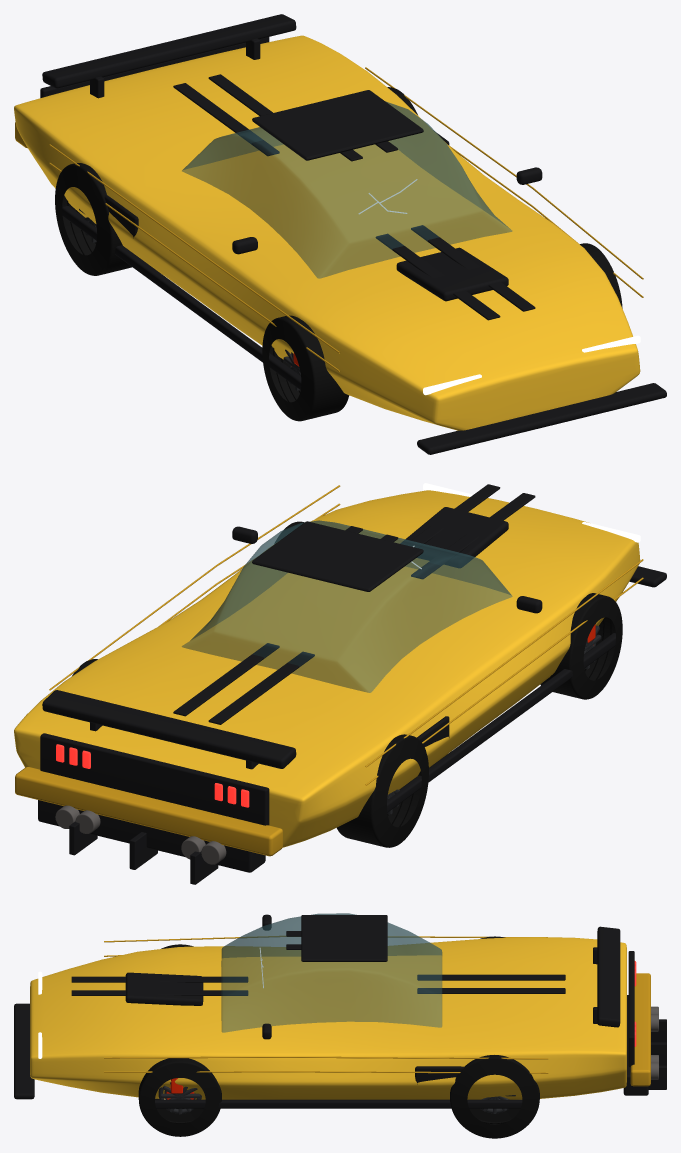
Rendered from gt650_mid_engine.glb.
3 renders of one model, top to bottom at view 1: azimuth 30°, elevation 25°; view 2: azimuth 150°, elevation 25°; view 3: azimuth 270°, elevation 25°, orthographic. The views are drawn at different scales.
Visible parts, largest first — view 1: Crashhawk_BodyShell, Cabin_Glasshouse, Black_Roof_Panel, Wheel_FL_Tire_Sidewall, Damage_Active_Rear_Wing, Wheel_RL_Tire_Sidewall, Damage_Front_Splitter, Left_Side_Skirt, Hood_Ram_Scoop, Rear_Deck_Stripe_-0.14, Hood_Stripe_+0.14, Hood_Stripe_-0.14 (+4 smaller); view 2: Crashhawk_BodyShell, Cabin_Glasshouse, Rear_Black_Tail_Panel, Rear_Bumper_Yellow_Lip, Black_Roof_Panel, Damage_Active_Rear_Wing, Wheel_RL_Tire_Sidewall, Wheel_FL_Tire_Sidewall, Left_Side_Skirt, Damage_Rear_Diffuser_Block, Hood_Ram_Scoop, Rear_Deck_Stripe_+0.14 (+6 smaller); view 3: Crashhawk_BodyShell, Cabin_Glasshouse, Wheel_RR_Tire_Sidewall, Black_Roof_Panel, Wheel_FR_Tire_Sidewall, Right_Side_Skirt, Damage_Active_Rear_Wing, Hood_Ram_Scoop, Rear_Bumper_Yellow_Lip, Damage_Front_Splitter, Rear_Deck_Stripe_-0.14, Hood_Stripe_-0.14 (+9 smaller).
Part boxes in pixels (box(x1,y1,x2,y2)): Crashhawk_BodyShell: box(14, 35, 640, 430); Cabin_Glasshouse: box(182, 101, 512, 278); Black_Roof_Panel: box(252, 90, 423, 160); Wheel_FL_Tire_Sidewall: box(262, 315, 349, 421); Damage_Active_Rear_Wing: box(42, 14, 296, 88); Wheel_RL_Tire_Sidewall: box(55, 163, 131, 275); Damage_Front_Splitter: box(417, 383, 666, 454); Left_Side_Skirt: box(62, 206, 301, 389); Hood_Ram_Scoop: box(396, 247, 508, 301); Rear_Deck_Stripe_-0.14: box(173, 83, 279, 155); Hood_Stripe_+0.14: box(411, 225, 535, 311); Hood_Stripe_-0.14: box(375, 233, 500, 320); Crashhawk_BodyShell: box(14, 490, 640, 847); Cabin_Glasshouse: box(182, 520, 512, 692); Rear_Black_Tail_Panel: box(40, 733, 269, 825); Rear_Bumper_Yellow_Lip: box(15, 767, 282, 856); Black_Roof_Panel: box(252, 521, 423, 591); Damage_Active_Rear_Wing: box(42, 690, 296, 768); Wheel_RL_Tire_Sidewall: box(337, 734, 428, 847); Wheel_FL_Tire_Sidewall: box(540, 593, 622, 699); Left_Side_Skirt: box(387, 633, 615, 812); Damage_Rear_Diffuser_Block: box(38, 800, 265, 872); Hood_Ram_Scoop: box(400, 507, 508, 567); Rear_Deck_Stripe_+0.14: box(173, 643, 279, 716); Crashhawk_BodyShell: box(30, 937, 626, 1099); Cabin_Glasshouse: box(221, 913, 442, 1032); Wheel_RR_Tire_Sidewall: box(450, 1055, 539, 1138); Black_Roof_Panel: box(301, 915, 387, 961); Wheel_FR_Tire_Sidewall: box(138, 1058, 221, 1136); Right_Side_Skirt: box(155, 1099, 522, 1108); Damage_Active_Rear_Wing: box(597, 926, 620, 1027); Hood_Ram_Scoop: box(125, 972, 203, 1005); Rear_Bumper_Yellow_Lip: box(630, 973, 650, 1086); Damage_Front_Splitter: box(14, 1003, 34, 1099); Rear_Deck_Stripe_-0.14: box(417, 974, 565, 980); Hood_Stripe_-0.14: box(71, 976, 248, 982).
Size of the model in its own units: 2.58 by 1.37 by 5.73.
